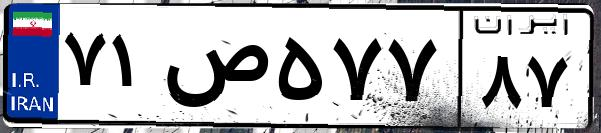1: (110, 28, 158, 98)
5: (270, 28, 330, 110)
7: (385, 28, 445, 110), (330, 28, 385, 110), (57, 26, 110, 100), (525, 38, 570, 115)
8: (475, 38, 525, 113)
ص: (158, 20, 270, 120)
